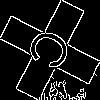C: (25, 25, 82, 78)
